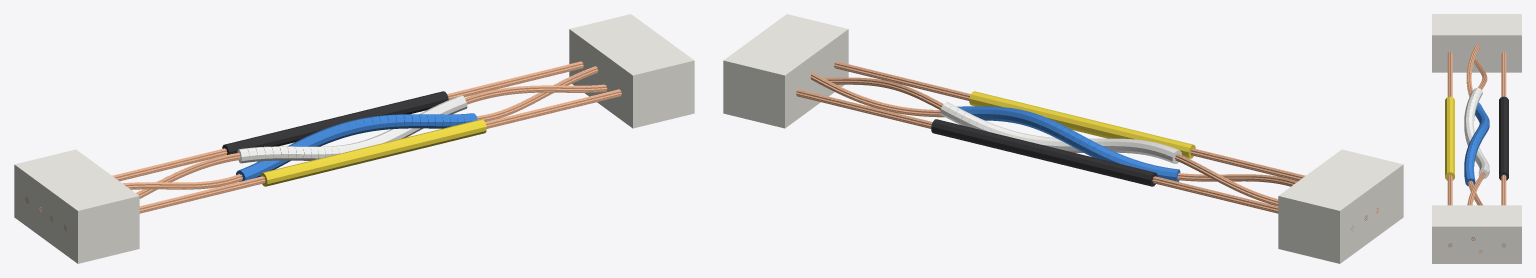
Rendered from AP_CABLE_APLINK_DETALLE.glb.
The picture shows the model from 3 angles, left to right: view 1: azimuth 30°, elevation 25°; view 2: azimuth 150°, elevation 25°; view 3: azimuth 270°, elevation 25°; orthographic projection. The views are drawn at different scales.
Visible parts, largest first — view 1: carcasas_xh, cobre_hilos, aislante_SENSE, aislante_B, aislante_A, aislante_GND; view 2: carcasas_xh, cobre_hilos, aislante_GND, aislante_B, aislante_A, aislante_SENSE; view 3: carcasas_xh, cobre_hilos, aislante_B, aislante_A, aislante_SENSE, aislante_GND.
Part boxes in pixels (<box>): carcasas_xh: <box>14,14,694,263</box>; cobre_hilos: <box>25,61,621,230</box>; aislante_SENSE: <box>260,119,486,186</box>; aislante_B: <box>236,113,477,181</box>; aislante_A: <box>237,95,467,163</box>; aislante_GND: <box>222,91,448,154</box>; carcasas_xh: <box>723,14,1403,263</box>; cobre_hilos: <box>796,61,1379,231</box>; aislante_GND: <box>931,119,1157,186</box>; aislante_B: <box>957,106,1180,181</box>; aislante_A: <box>940,102,1181,163</box>; aislante_SENSE: <box>969,91,1195,158</box>; carcasas_xh: <box>1432,14,1521,263</box>; cobre_hilos: <box>1447,44,1506,253</box>; aislante_B: <box>1464,102,1489,186</box>; aislante_A: <box>1464,87,1489,178</box>; aislante_SENSE: <box>1445,96,1454,180</box>; aislante_GND: <box>1499,96,1508,180</box>.
Size of the model in its own units: 0.0701 by 0.00575 by 0.0125.
